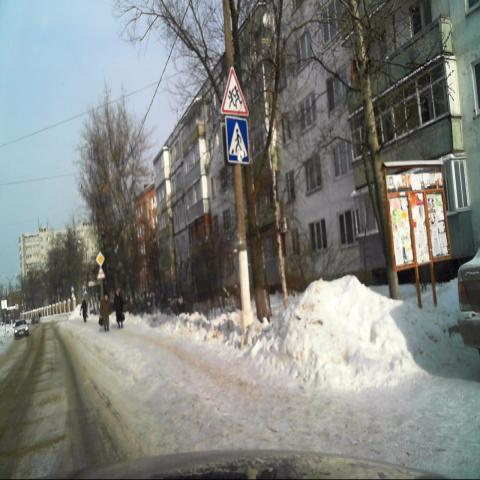1_23: (222, 66, 250, 115), (97, 268, 105, 280)
2_1: (96, 250, 104, 266)
5_19_1: (226, 118, 250, 164)
